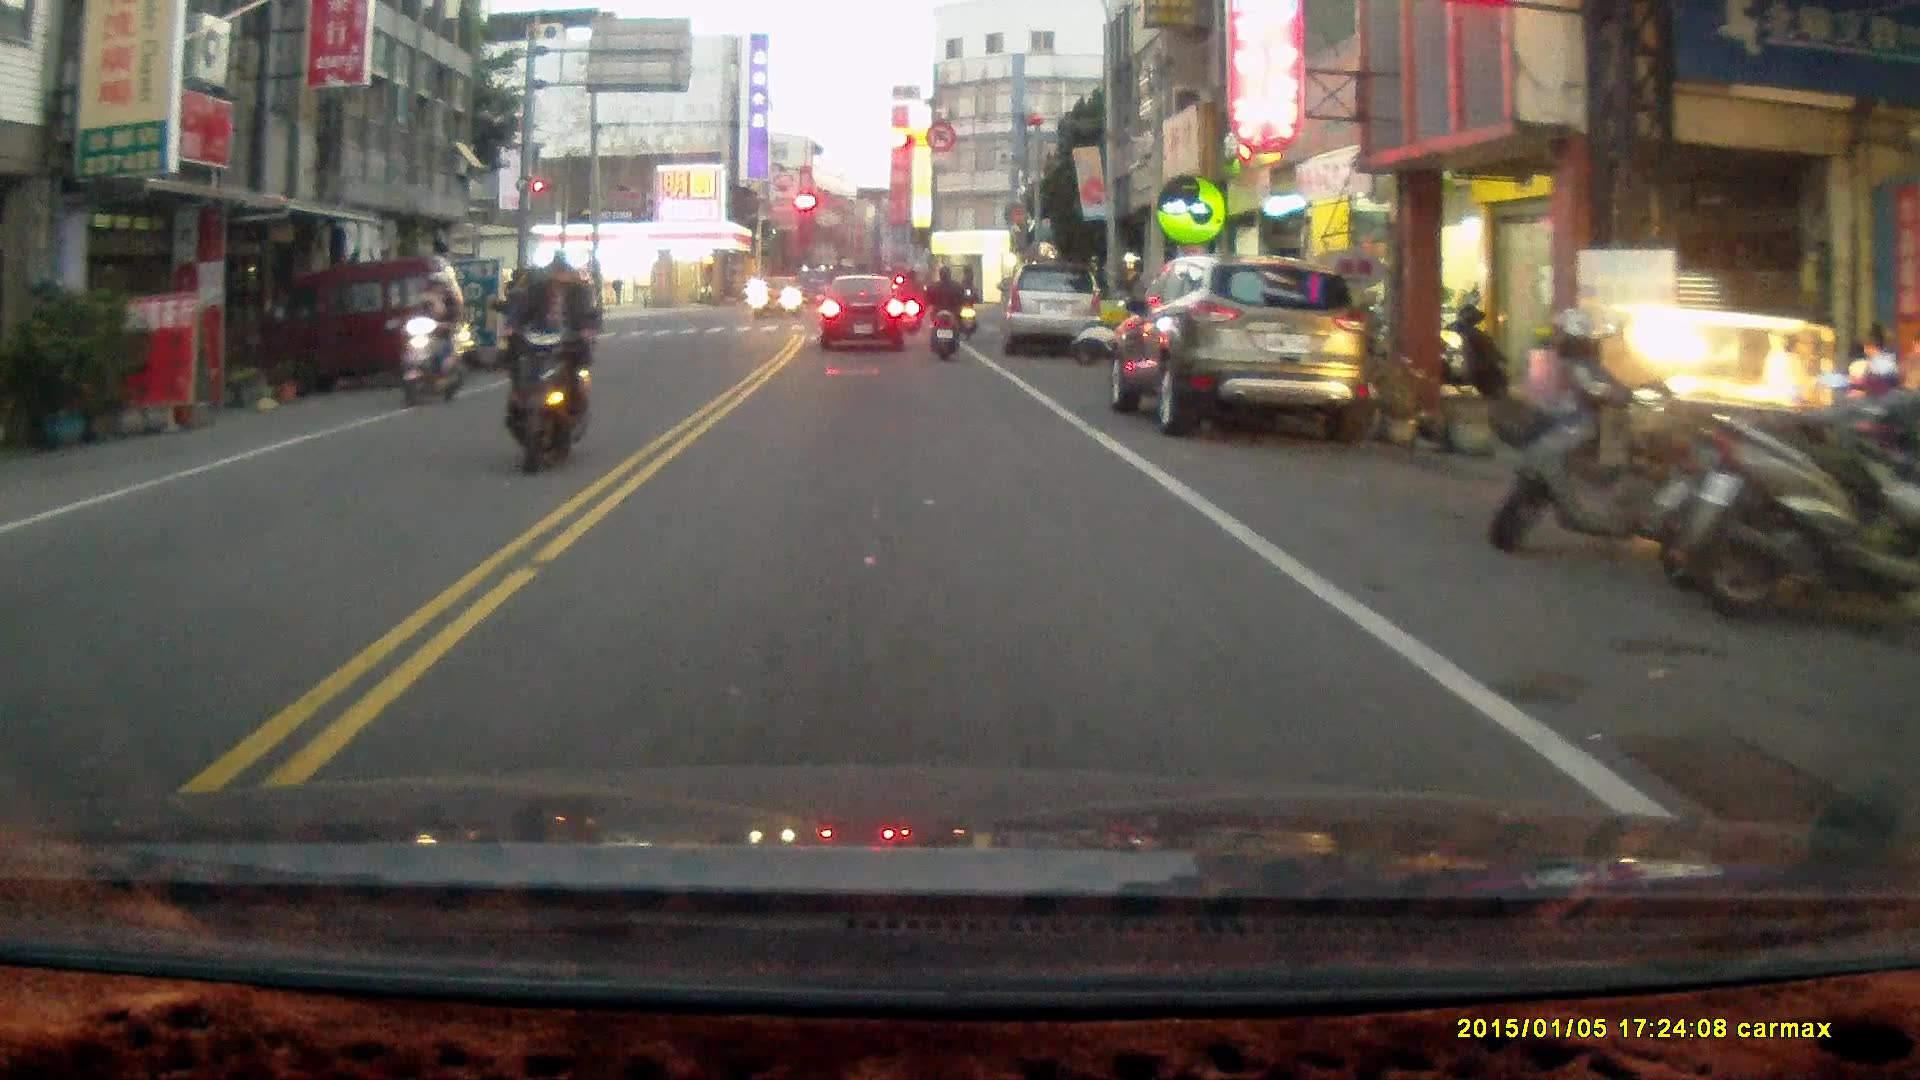pedestrian: (1848, 321, 1901, 478)
rider: (500, 247, 594, 478), (396, 270, 470, 410), (919, 265, 965, 364), (894, 265, 923, 332), (953, 273, 979, 337)
vehicle: (1114, 256, 1371, 446), (257, 255, 476, 399), (1005, 265, 1106, 360), (820, 279, 911, 353)
